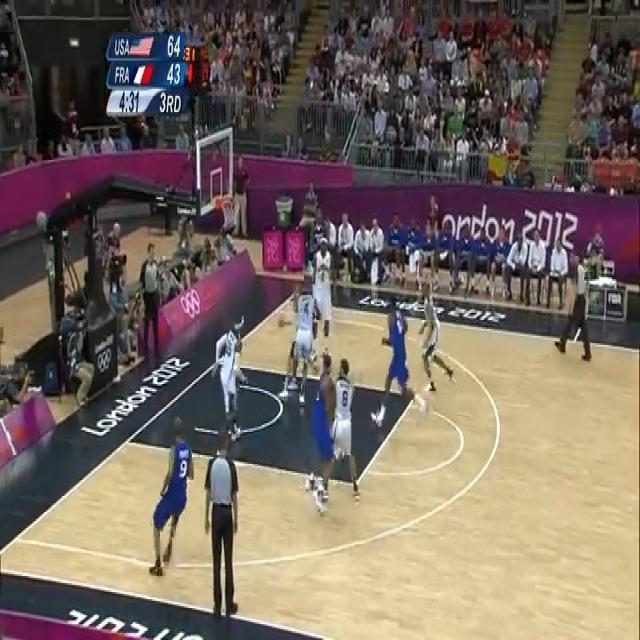hoop: (220, 195, 241, 228)
